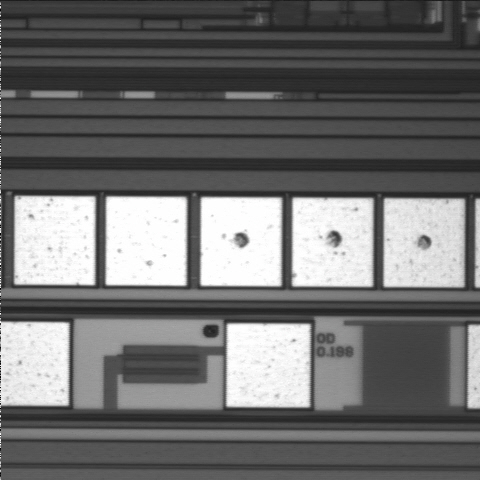pad: (200, 197, 282, 286), (14, 196, 95, 285), (106, 197, 187, 286), (292, 198, 373, 287), (226, 323, 310, 407), (384, 199, 464, 287)
